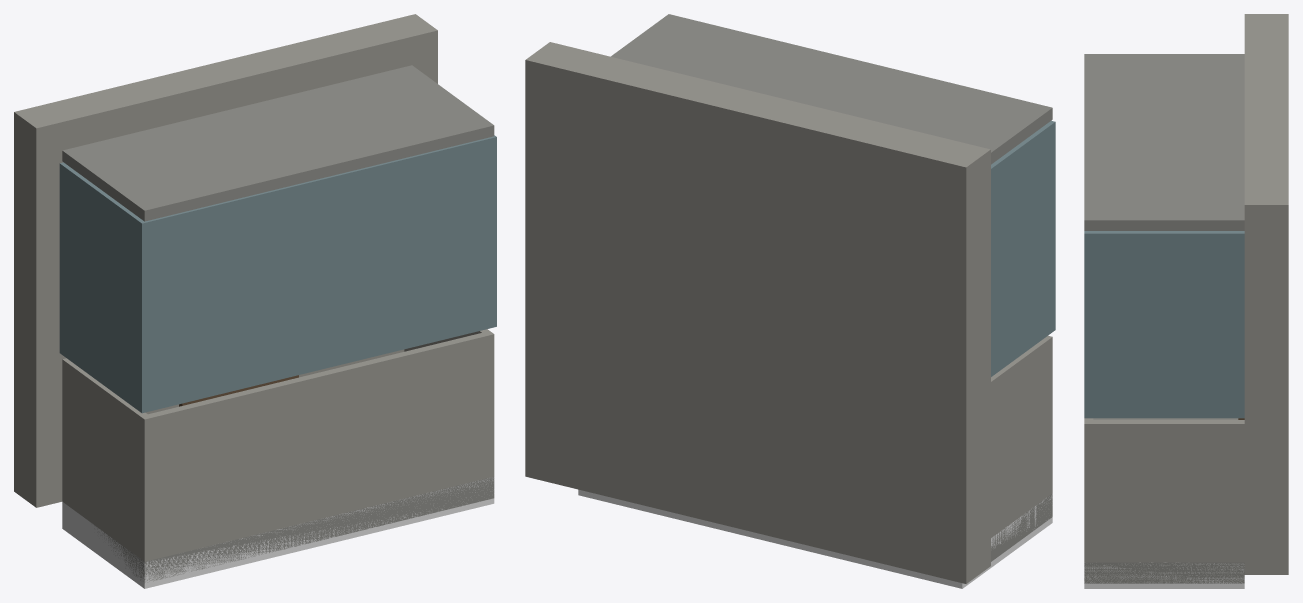
The model's file is balcony_glazed.glb.
The picture shows the model from 3 angles, left to right: view 1: azimuth 30°, elevation 25°; view 2: azimuth 150°, elevation 25°; view 3: azimuth 270°, elevation 25°; orthographic projection. The views are drawn at different scales.
Visible parts, largest first — view 1: balcony_mesh, balcony_glazed-col; view 2: balcony_mesh, balcony_glazed-col; view 3: balcony_mesh, balcony_glazed-col.
Part boxes in pixels (<box>): balcony_mesh: <box>14,14,496,582</box>; balcony_glazed-col: <box>62,477,494,588</box>; balcony_mesh: <box>525,14,1055,583</box>; balcony_glazed-col: <box>578,489,1052,588</box>; balcony_mesh: <box>1084,14,1288,583</box>; balcony_glazed-col: <box>1084,562,1244,588</box>.
Size of the model in its own units: 3.1 by 3 by 1.4.
